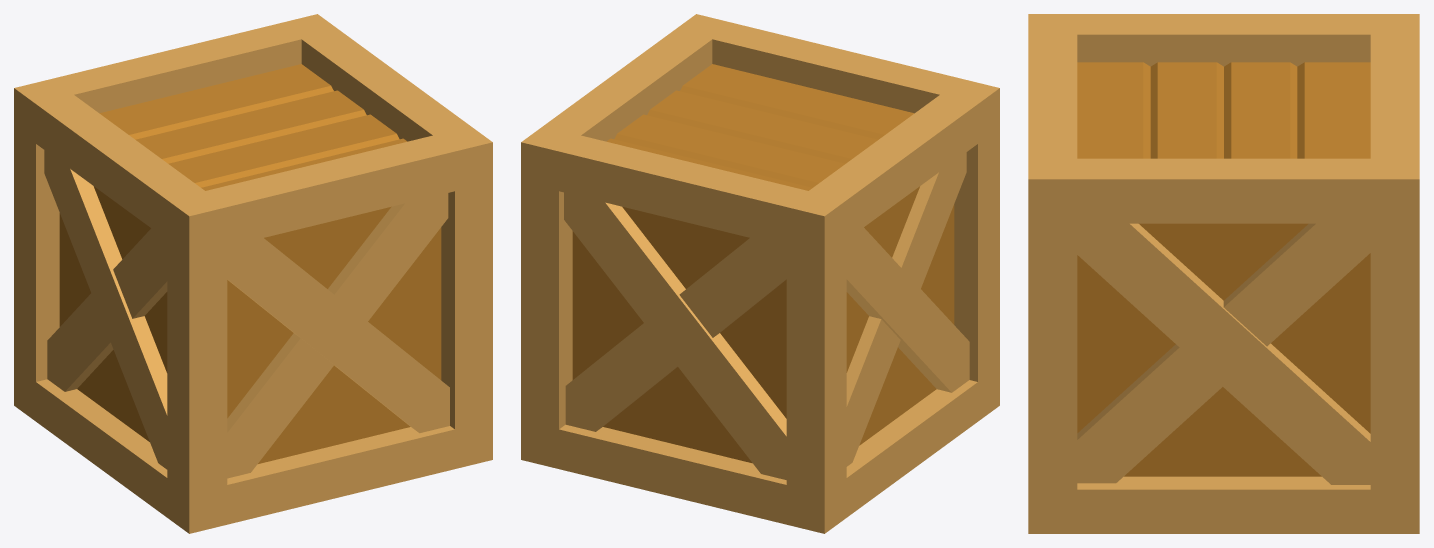
Rendered from Crate_Small_test.fbx.
3 views of the same model, side by side, from view 1: azimuth 30°, elevation 25°; view 2: azimuth 150°, elevation 25°; view 3: azimuth 270°, elevation 25° (orthographic). The views are drawn at different scales.
Visible parts, largest first — view 1: Cube; view 2: Cube; view 3: Cube.
Boxes of the visible parts, <box> form: Cube: <box>14,14,492,533</box>; Cube: <box>521,14,999,533</box>; Cube: <box>1028,14,1419,533</box>.
Bounding box in the file's own units: 200 × 200 × 200.
